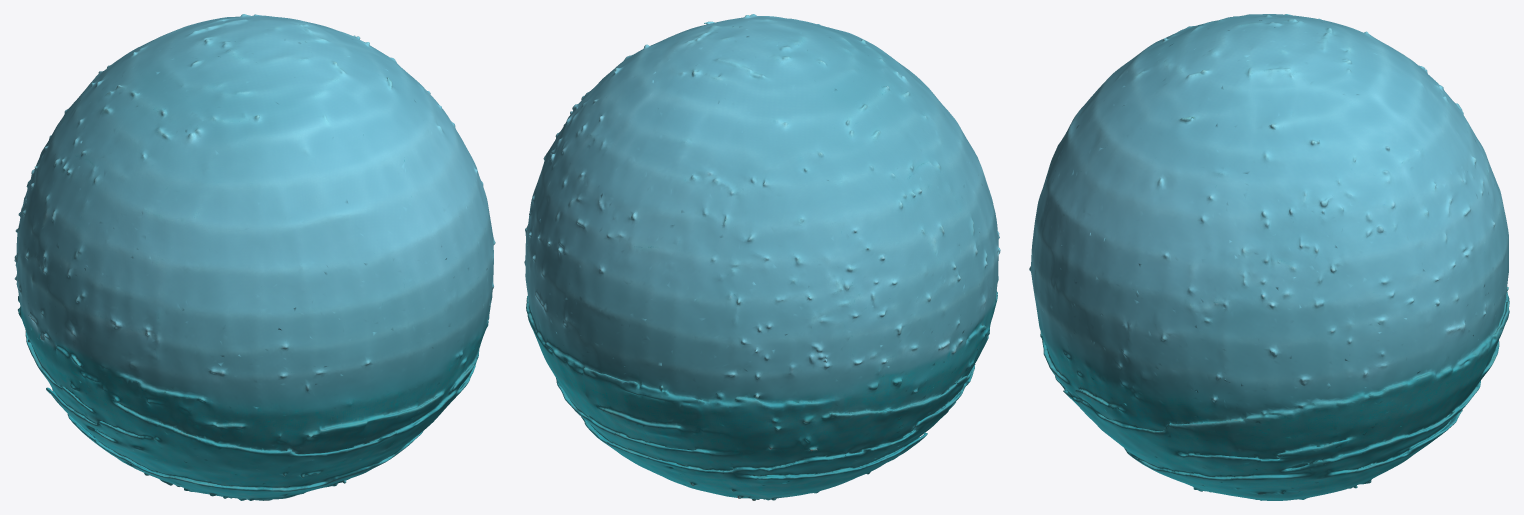
Rendered from urano.glb.
3 renders of one model, left to right at view 1: azimuth 30°, elevation 25°; view 2: azimuth 150°, elevation 25°; view 3: azimuth 270°, elevation 25°, orthographic.
Visible parts, largest first — view 1: world; view 2: world; view 3: world.
Boxes of the visible parts, x1,y1,x2,y2 form: world: (14,14,495,500); world: (524,14,1000,500); world: (1029,14,1509,500).
Bounding box in the file's own units: 0.9854 × 1 × 0.9869.
1 material, 1 textured.
